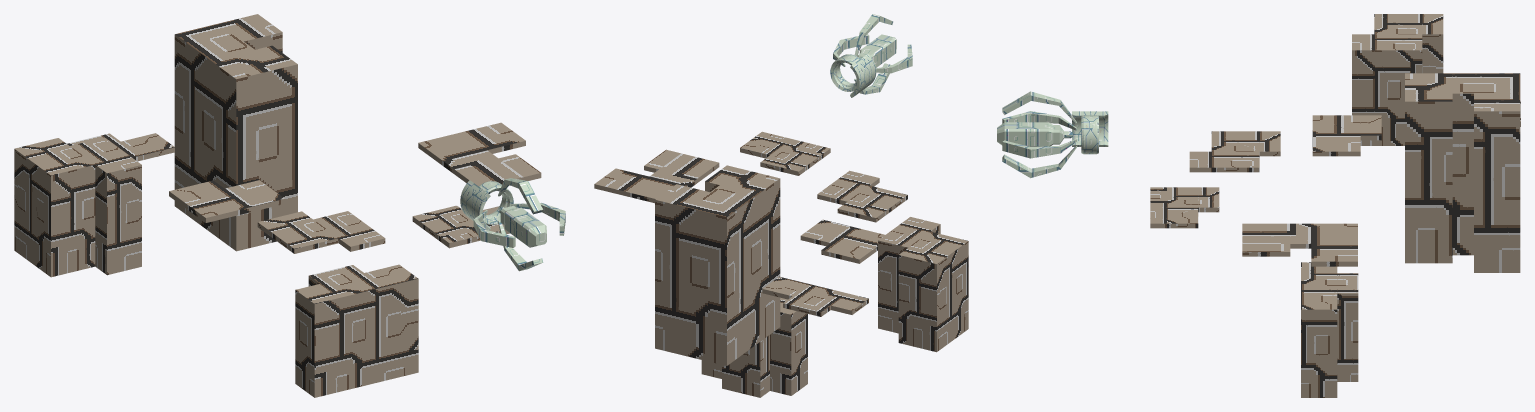
Rendered from station_omega.fbx.
3 views of the same model, side by side, from view 1: azimuth 30°, elevation 25°; view 2: azimuth 150°, elevation 25°; view 3: azimuth 270°, elevation 25° (orthographic). The views are drawn at different scales.
Parts seen in each view (by area): view 1: Cube.007, Cube.006, Cube.013, Cube.003, Cube.002, Cube, Cube.005, Cube.001, Cylinder, Cube.008; view 2: Cube.007, Cube.006, Cube.013, Cube.003, Cube.002, Cube.008, Cube.001, Cube, Cube.005, Cylinder; view 3: Cube.007, Cube.006, Cube.013, Cube.003, Cube, Cube.002, Cube.005, Cube.001, Cylinder.
Part boxes in pixels (x1,y1,x2,y2): Cube.007: (174,14,297,251); Cube.006: (14,137,141,277); Cube.013: (295,264,418,397); Cube.003: (418,122,541,186); Cube.002: (257,211,385,253); Cube: (473,178,565,271); Cube.005: (169,180,284,222); Cube.001: (412,205,509,248); Cylinder: (460,180,513,230); Cube.008: (67,133,174,161); Cube.007: (655,165,780,365); Cube.006: (878,217,968,352); Cube.013: (701,297,807,397); Cube.003: (594,149,719,203); Cube.002: (817,170,907,222); Cube.008: (762,276,868,316); Cube.001: (740,131,830,175); Cube: (833,14,912,94); Cube.005: (800,219,884,263); Cylinder: (830,53,876,97); Cube.007: (1405,73,1520,272); Cube.006: (1352,14,1443,145); Cube.013: (1301,262,1358,397); Cube.003: (1242,223,1357,266); Cube: (997,91,1076,178); Cube.002: (1189,131,1280,172); Cube.005: (1312,115,1381,156); Cube.001: (1150,187,1219,228); Cylinder: (1072,111,1108,154).
Size of the model in its own units: 16971 by 11216 by 18565.
